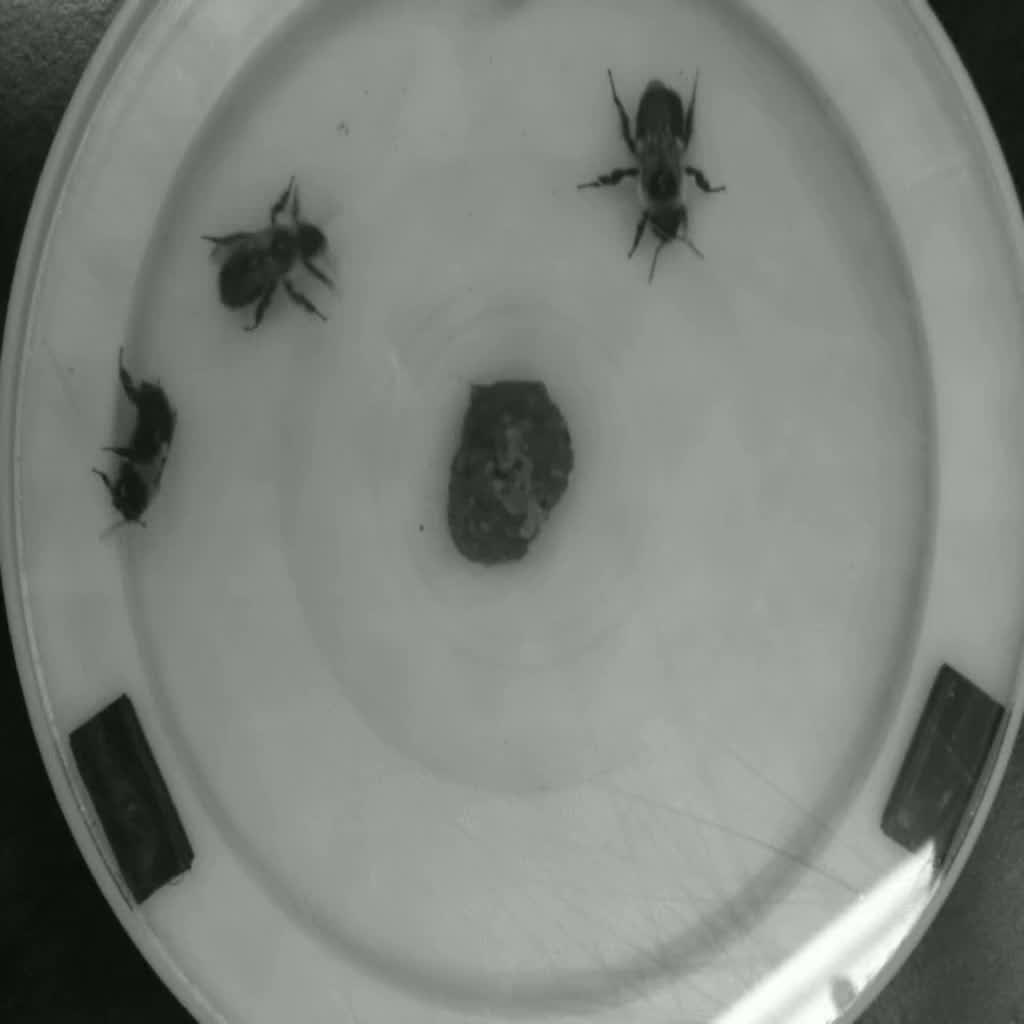bee: (197, 196, 357, 334), (617, 77, 718, 263), (90, 363, 180, 551)
